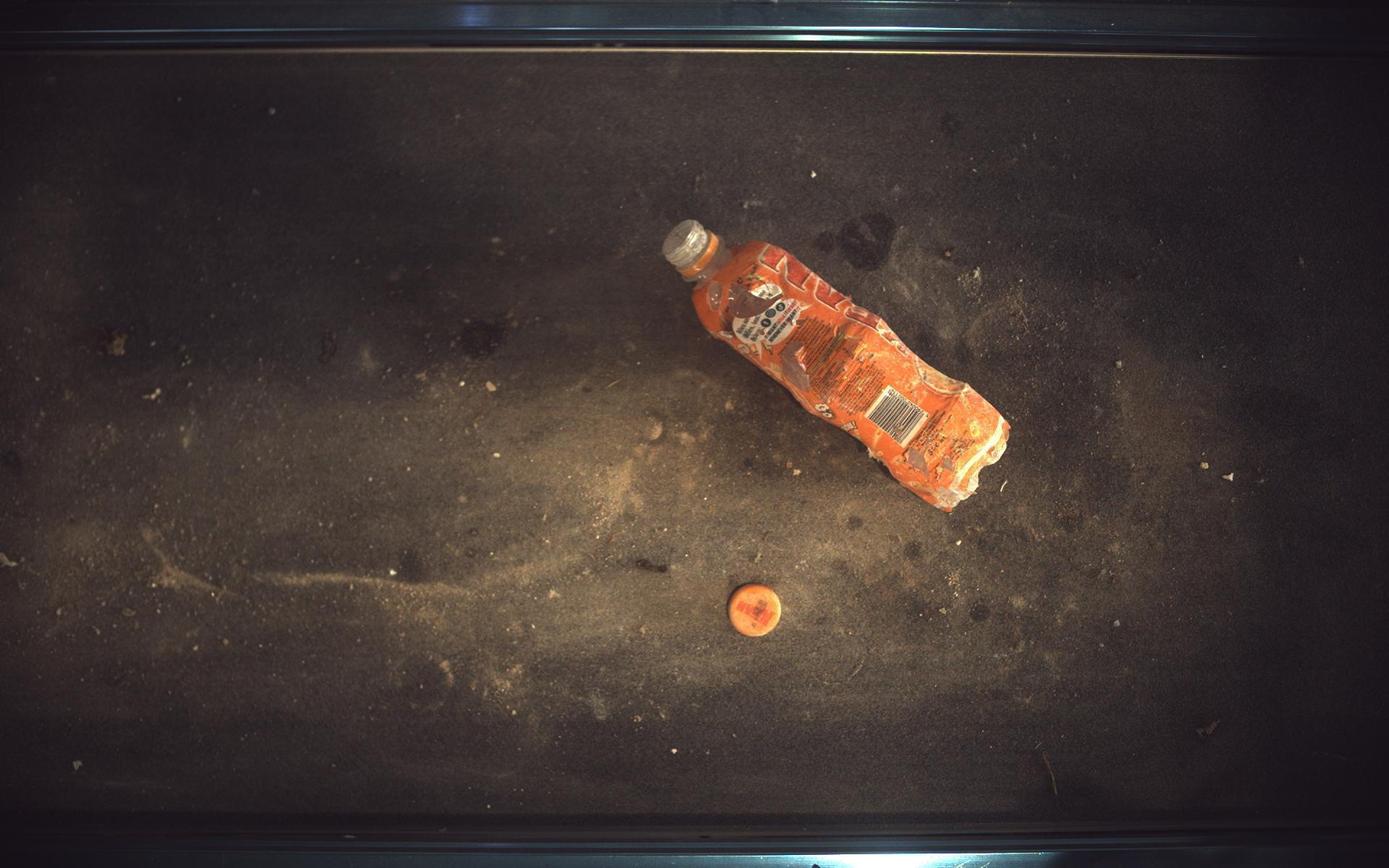general_w: (664, 219, 1012, 511), (730, 584, 783, 637)
